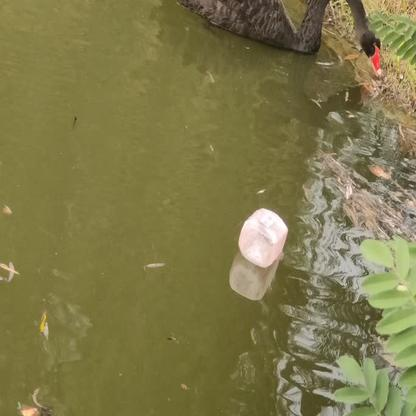plastic bottle: (237, 207, 289, 266)
